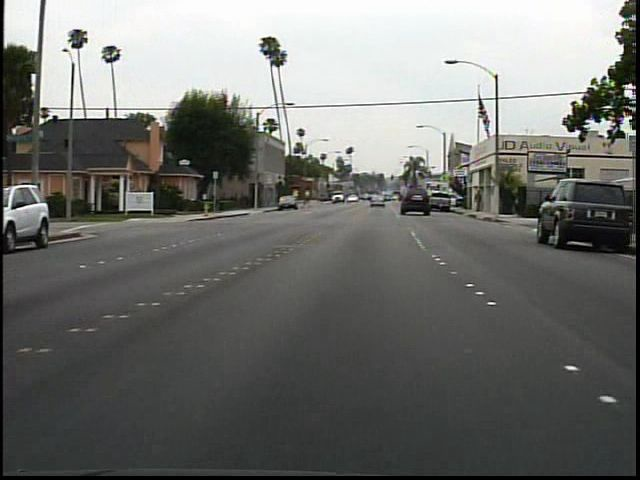person: (468, 187, 486, 216)
